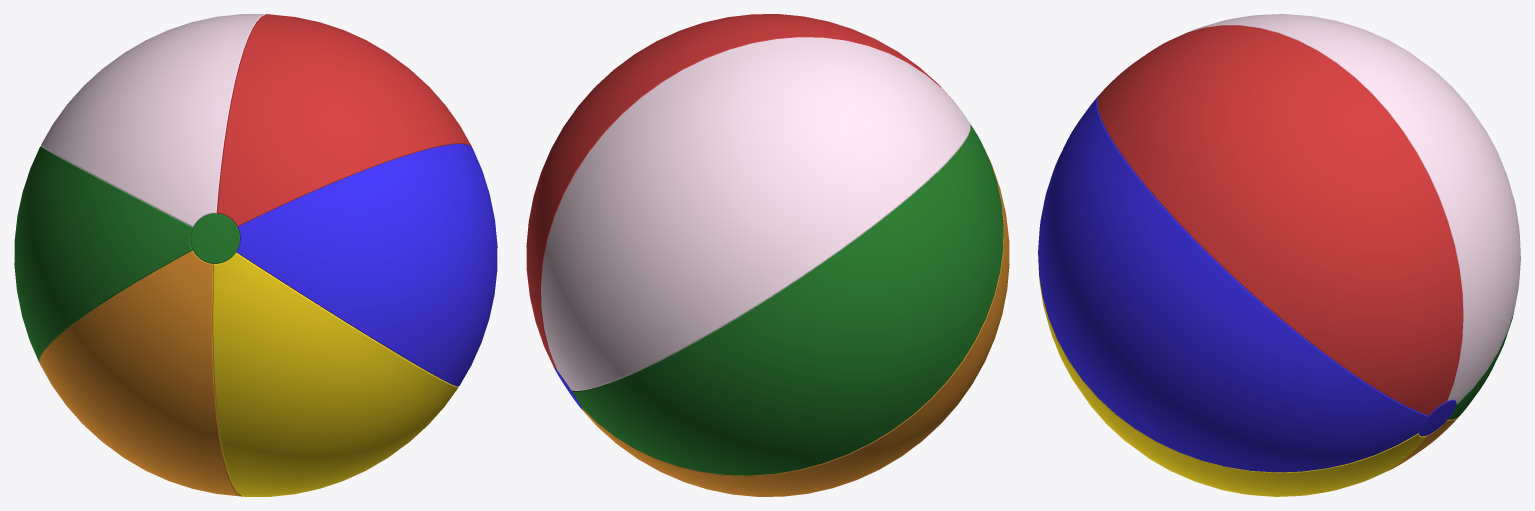
File: beachball.fbx
3 renders of one model, left to right at view 1: azimuth 30°, elevation 25°; view 2: azimuth 150°, elevation 25°; view 3: azimuth 270°, elevation 25°, orthographic.
Parts seen in each view (by area): view 1: beachball; view 2: beachball; view 3: beachball.
Boxes of the visible parts, box(x1,y1,x2,y2) form: beachball: box(14, 14, 497, 496); beachball: box(526, 14, 1009, 496); beachball: box(1038, 14, 1520, 496).
Bounding box in the file's own units: 99.91 × 99.92 × 99.98.
